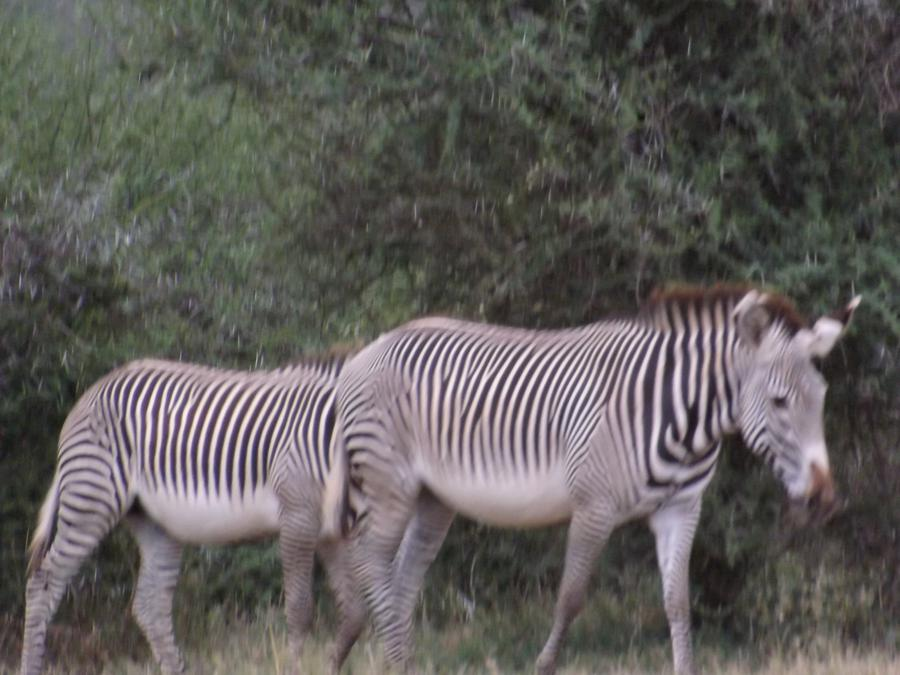zebra_grevys: (75, 332, 326, 517)
